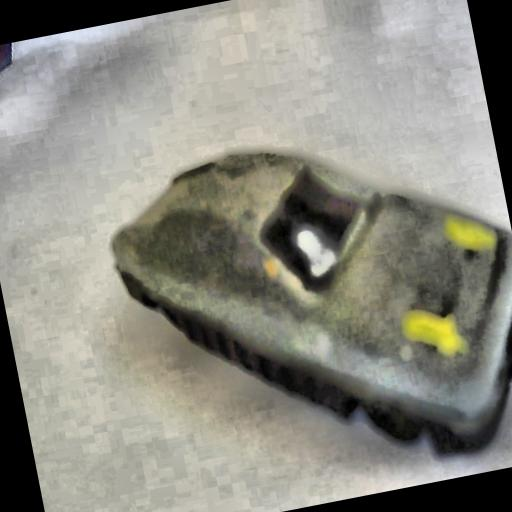normal_car: (93, 97, 512, 512)
